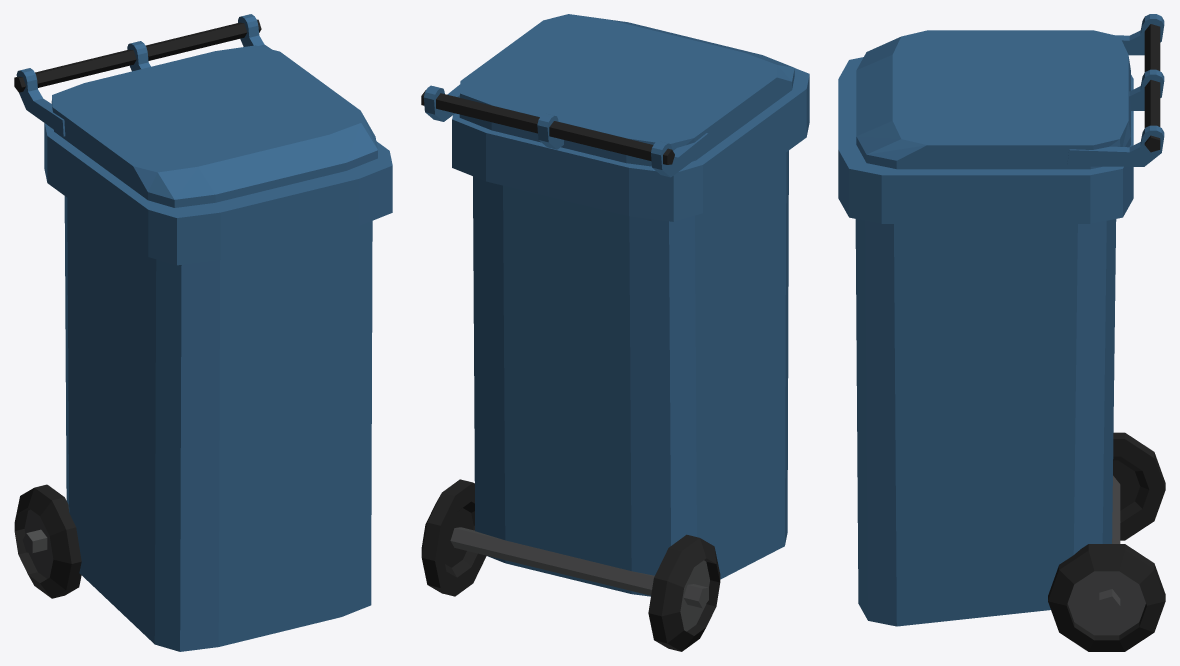
The model's file is SM_garbagecan_03.fbx.
3 views of the same model, side by side, from view 1: azimuth 30°, elevation 25°; view 2: azimuth 150°, elevation 25°; view 3: azimuth 270°, elevation 25° (orthographic). The views are drawn at different scales.
Parts seen in each view (by area): view 1: Object156; view 2: Object156; view 3: Object156.
Boxes of the visible parts, bbox=[...] form: Object156: bbox=[14, 14, 392, 651]; Object156: bbox=[421, 14, 809, 651]; Object156: bbox=[838, 14, 1165, 651].
Size of the model in its own units: 29.02 by 53.34 by 30.4.
